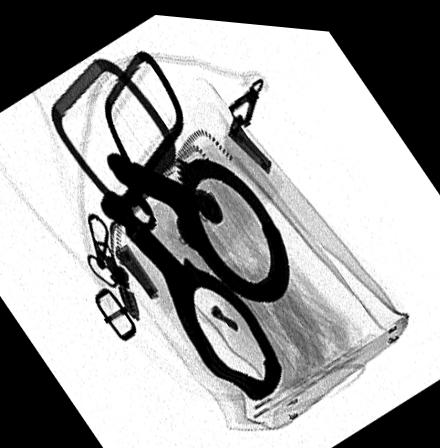HandCuffs: (98, 149, 290, 395)
